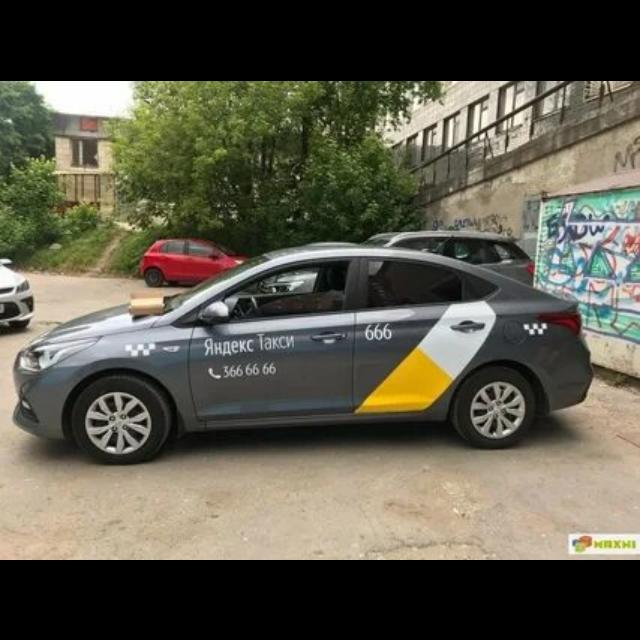taxi: (12, 239, 595, 465)
